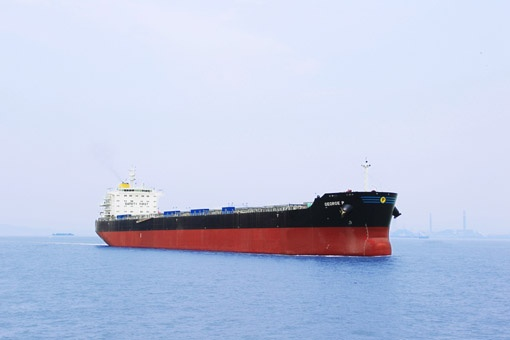Cargoship: (85, 164, 400, 256)
